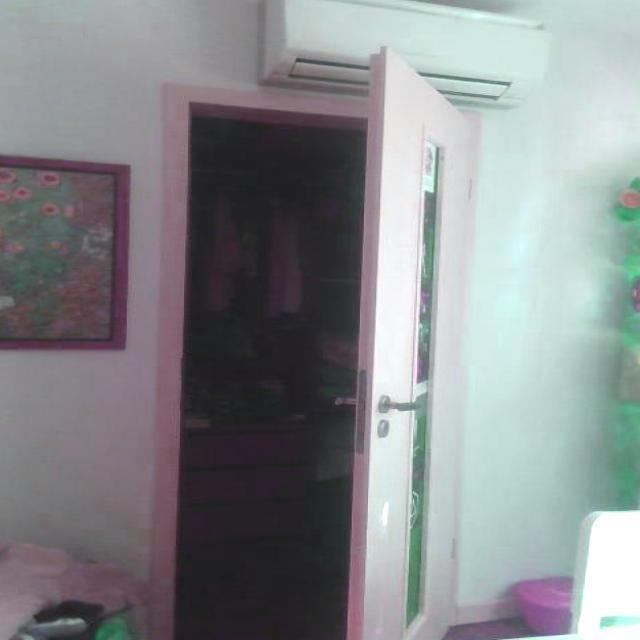door: (347, 44, 475, 638)
